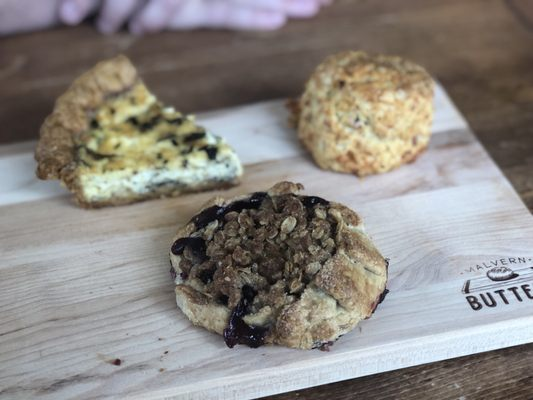sandwich: (35, 54, 244, 209)
